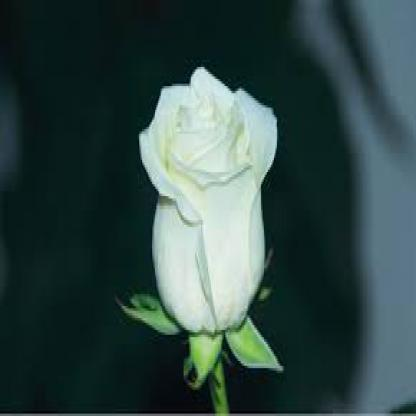Rose-Mawar: (139, 56, 271, 338)
